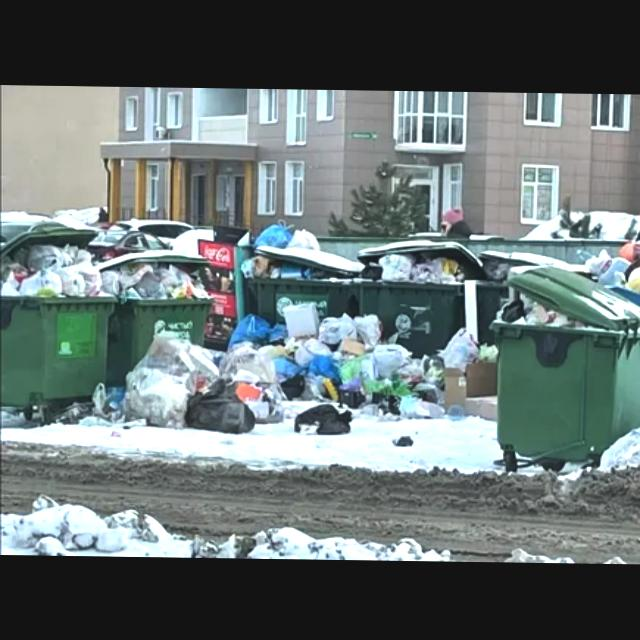Trash_Can_Full: (494, 262, 640, 464), (1, 224, 117, 414), (95, 246, 217, 389), (356, 236, 478, 359), (243, 222, 359, 325), (479, 251, 565, 346)
